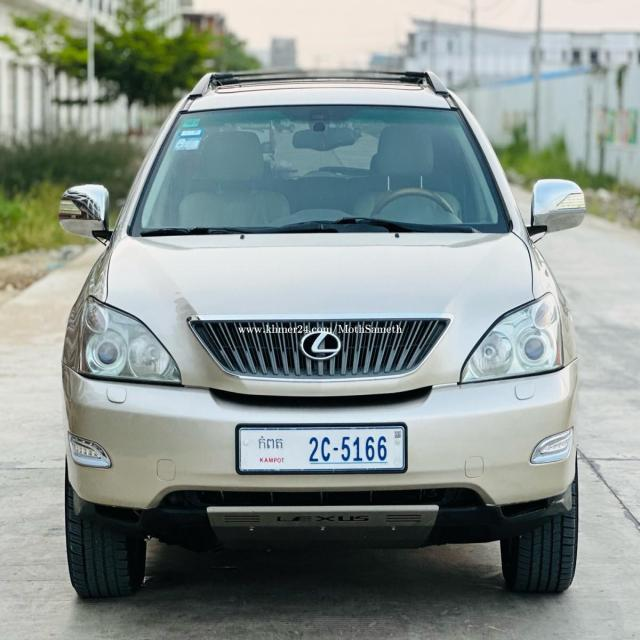Kampot: (257, 435, 283, 455)
